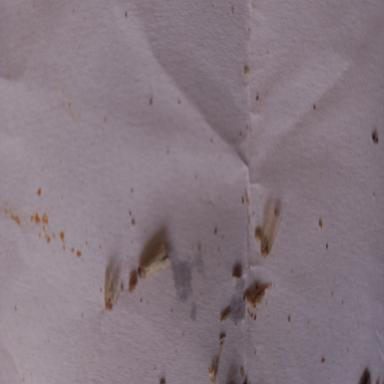pbw: (136, 240, 172, 278), (260, 208, 280, 254), (103, 266, 117, 310)
